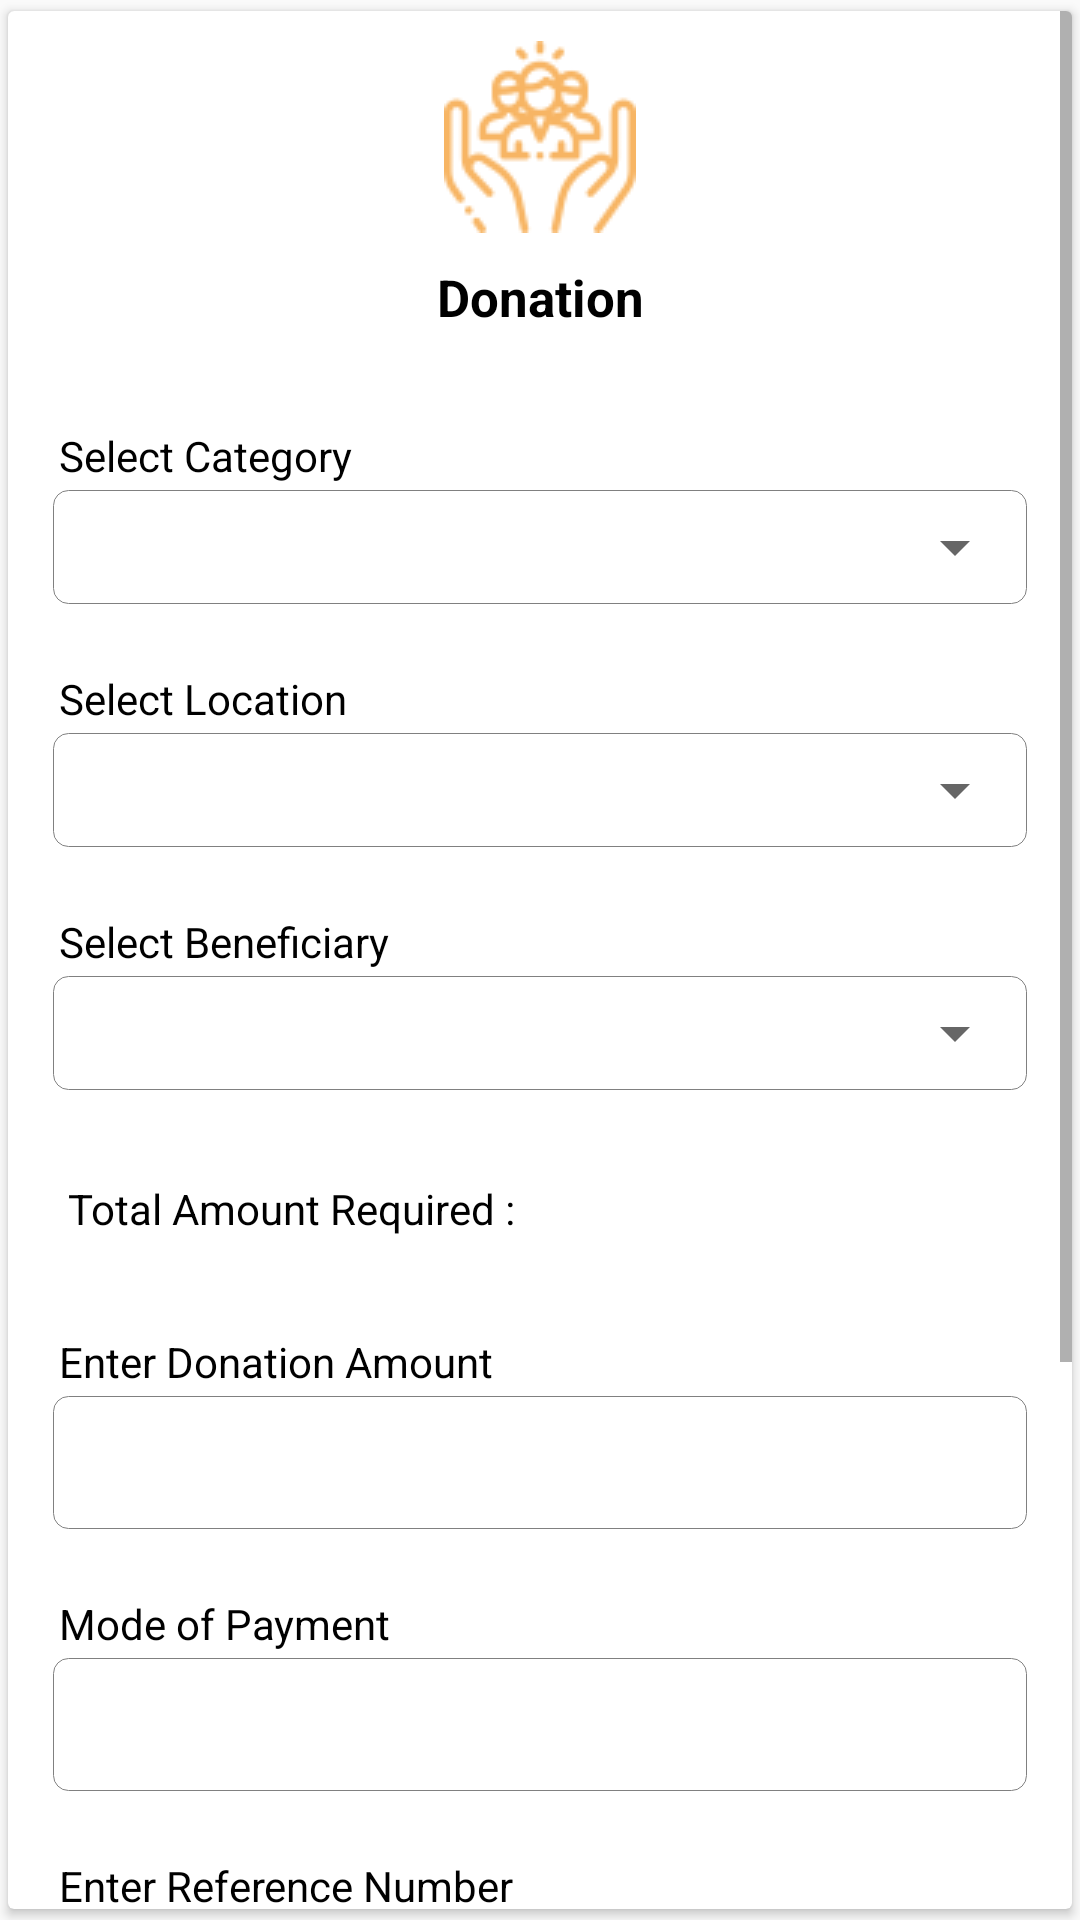

Screen size 1080x1920. Icon name, then its center in pixels as (x=x, y=y):
social care: (x=540, y=137)
